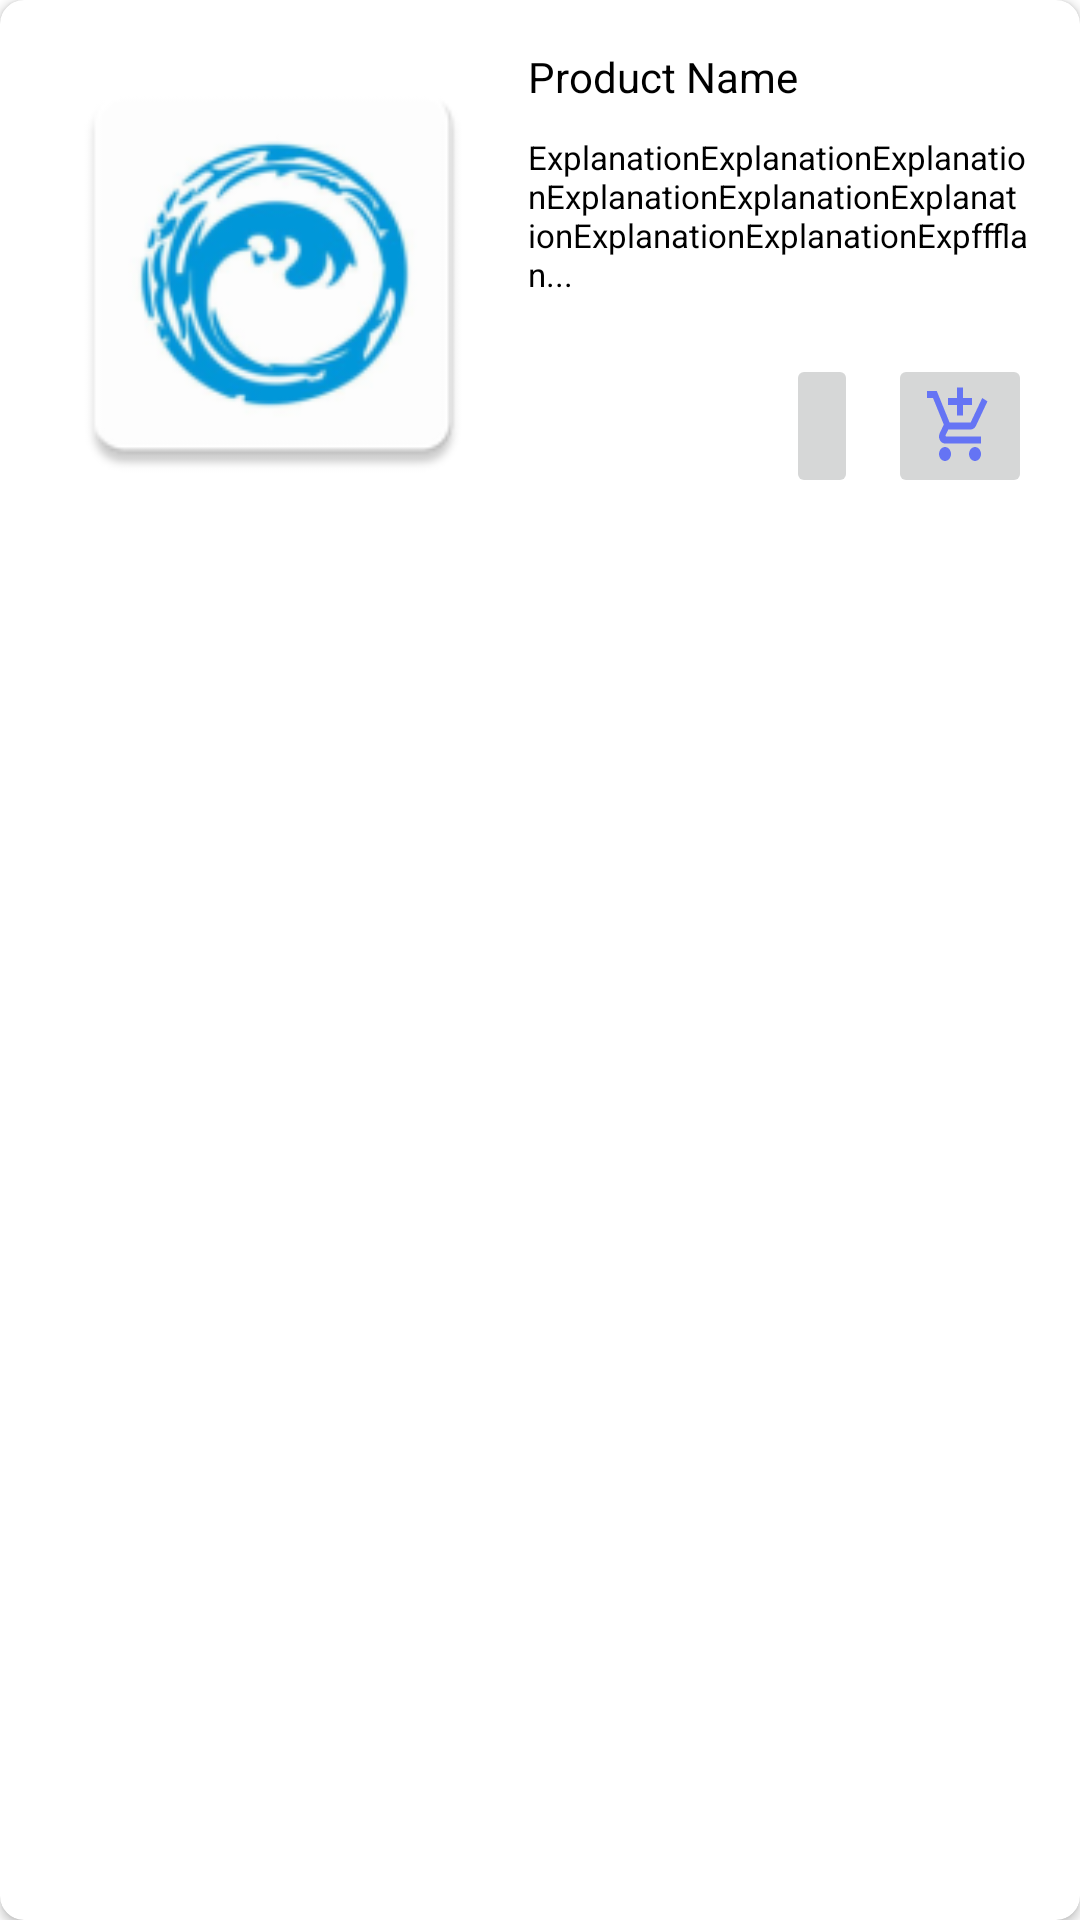

Icon bounding boxes for this 1080x1920 phone screenshot, format (x1, y1, x2, y2):
add shopping cart: (900, 372, 1020, 480)
